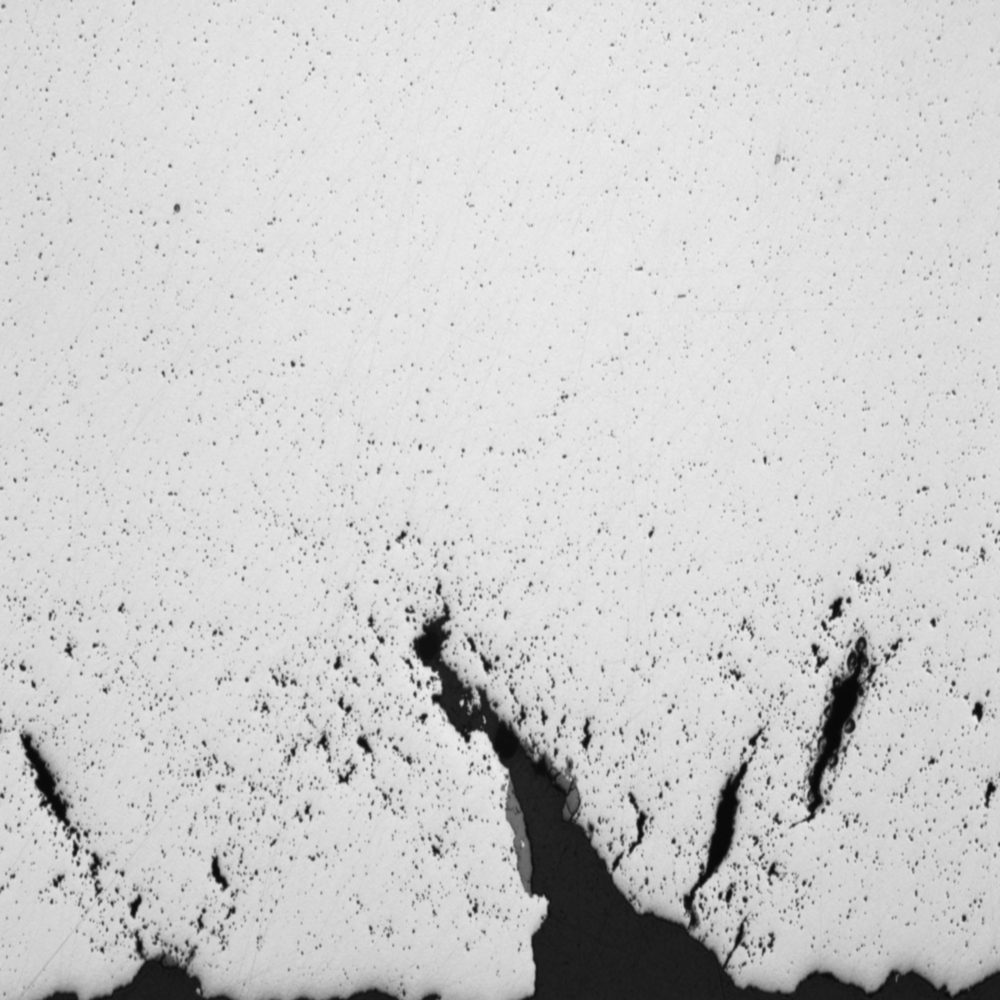crack: (360, 579, 755, 1000), (1, 710, 237, 1000), (792, 624, 892, 838)
